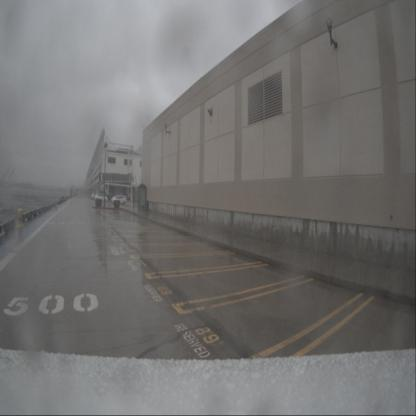vehicle-car: (113, 196, 127, 206), (95, 193, 108, 203), (90, 192, 102, 200), (111, 195, 123, 203)
